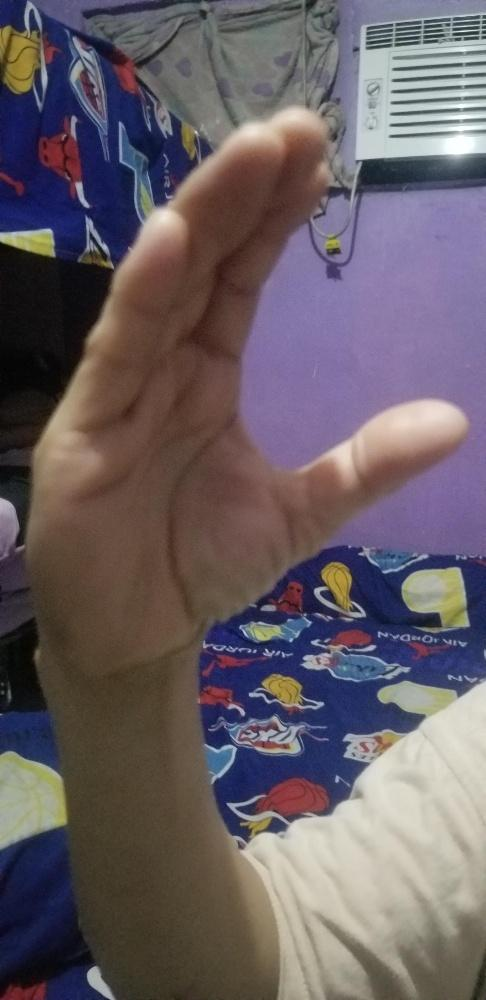c: (23, 108, 470, 673)
